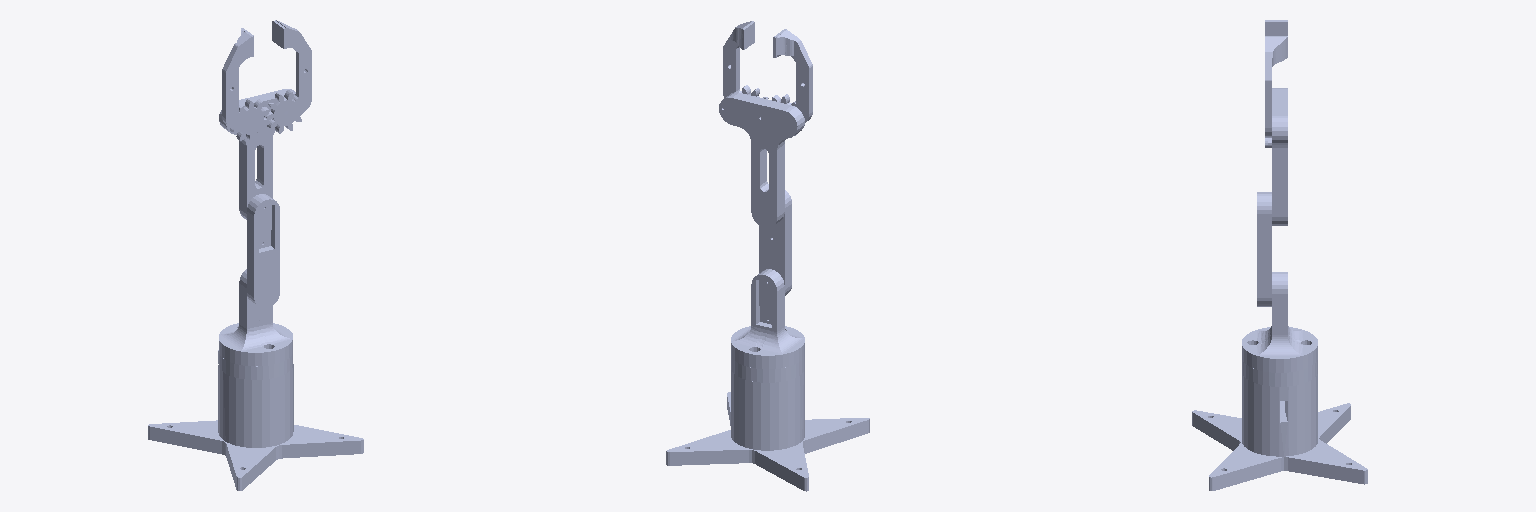
URDF robot description (robot_arm):
<?xml version="1.0" encoding="utf-8"?>
<!-- This URDF was automatically created by SolidWorks to URDF Exporter! Originally created by [author] ([email redacted]) 
     Commit Version: 1.6.0-1-g15f4949  Build Version: 1.6.7594.29634
     For more information, please see http://wiki.ros.org/sw_urdf_exporter -->
<robot
  name="robot_arm">

  <gazebo>
    <plugin name="gazebo_ros_control" filename="libgazebo_ros_control.so">
        <robotNamespace>/robot_arm</robotNamespace>
        <!-- <robotSimType>gazebo_ros_control/DefaultRobotHWSim</robotSimType> -->
    </plugin>
  </gazebo>

  <gazebo>
        <self_collide>1</self_collide>
  </gazebo>


  <link
    name="Link_1">
    <inertial>
      <origin
        xyz="4.5282E-05 4.8688E-06 0.023636"
        rpy="0 0 0" />
      <!-- <mass
        value="0.14588" /> -->
      <mass
        value="5.4588" />
      <inertia
        ixx="9.6389E-05"
        ixy="9.0084E-08"
        ixz="-8.254E-07"
        iyy="9.5561E-05"
        iyz="-8.8747E-08"
        izz="9.9975E-05" />
    </inertial>
    <visual>
      <origin
        xyz="0 0 0"
        rpy="0 0 0" />
      <geometry>
        <mesh
          filename="package://robot_arm/meshes/Link_1.STL" scale="1 1 1"/>
      </geometry>
      <material
        name="">
        <color
          rgba="0.79216 0.81961 0.93333 1" />
      </material>
    </visual>
    <collision>
      <origin
        xyz="0 0 0"
        rpy="0 0 0" />
      <geometry>
        <mesh
          filename="package://robot_arm/meshes/Link_1.STL" scale="1 1 1"/>
      </geometry>
    </collision>
  </link>
  <link
    name="Link_2">
    <inertial>
      <origin
        xyz="1.9973E-06 -0.00019544 0.016457"
        rpy="0 0 0" />
      <mass
        value="0.047031" />
      <inertia
        ixx="1.1303E-05"
        ixy="1.4175E-08"
        ixz="2.7298E-10"
        iyy="1.1863E-05"
        iyz="5.8768E-08"
        izz="1.2456E-05" />
    </inertial>
    <visual>
      <origin
        xyz="0 0 0"
        rpy="0 0 0" />
      <geometry>
        <mesh
          filename="package://robot_arm/meshes/Link_2.STL" scale="1 1 1"/>
      </geometry>
      <material
        name="">
        <color
          rgba="0.79216 0.81961 0.93333 1" />
      </material>
    </visual>
    <collision>
      <origin
        xyz="0 0 0"
        rpy="0 0 0" />
      <geometry>
        <mesh
          filename="package://robot_arm/meshes/Link_2.STL" scale="1 1 1"/>
      </geometry>
    </collision>
  </link>
  <joint
    name="Joint_1"
    type="revolute">
    <origin
      xyz="0 0 0.06"
      rpy="0 0 0" />
    <parent
      link="Link_1" />
    <child
      link="Link_2" />
    <axis
      xyz="0 0 -1" />
    <dynamics damping="0.0" friction="0.1"/>
    <limit
      lower="-1.6"
      upper="1.6"
      effort="200"
      velocity="0.1" />
  </joint>
  <link
    name="Link_3">
    <inertial>
      <origin
        xyz="-7.26752070051573E-07 -0.0093828236828277 0.035091806750311"
        rpy="0 0 0" />
      <mass
        value="0.0129599236993002" />
      <inertia
        ixx="5.30958057343358E-06"
        ixy="1.74787720994169E-11"
        ixz="3.32836221131858E-10"
        iyy="5.64415590766548E-06"
        iyz="-6.5627531906886E-08"
        izz="5.77508982647376E-07" />
    </inertial>
    <visual>
      <origin
        xyz="0 0 0"
        rpy="0 0 0" />
      <geometry>
        <mesh
          filename="package://robot_arm/meshes/Link_3.STL" scale="1 1 1"/>
      </geometry>
      <material
        name="">
        <color
          rgba="0.792156862745098 0.819607843137255 0.933333333333333 1" />
      </material>
    </visual>
    <collision>
      <origin
        xyz="0 0 0"
        rpy="0 0 0" />
      <geometry>
        <mesh
          filename="package://robot_arm/meshes/Link_3.STL" scale="1 1 1"/>
      </geometry>
    </collision>
  </link>
  <joint
    name="Joint_2"
    type="revolute">
    <origin
      xyz="0 0 0.052"
      rpy="0 0 0" />
    <parent
      link="Link_2" />
    <child
      link="Link_3" />
    <axis
      xyz="0 1 0" />
    <dynamics damping="0.0" friction="0.1"/>
    <limit
      lower="-1.6"
      upper="1.6"
      effort="200"
      velocity="0.1" />
  </joint>
  <link
    name="Link_4">
    <inertial>
      <origin
        xyz="0.0022806 6.1295E-06 0.054205"
        rpy="0 0 0" />
      <mass
        value="0.022474" />
      <inertia
        ixx="1.3536E-05"
        ixy="-7.4689E-11"
        ixz="1.1336E-07"
        iyy="1.6105E-05"
        iyz="3.6796E-08"
        izz="2.9505E-06" />
    </inertial>
    <visual>
      <origin
        xyz="0 0 0"
        rpy="0 0 0" />
      <geometry>
        <mesh
          filename="package://robot_arm/meshes/Link_4.STL" scale="1 1 1"/>
      </geometry>
      <material
        name="">
        <color
          rgba="0.79216 0.81961 0.93333 1" />
      </material>
    </visual>
    <collision>
      <origin
        xyz="0 0 0"
        rpy="0 0 0" />
      <geometry>
        <mesh
          filename="package://robot_arm/meshes/Link_4.STL" scale="1 1 1"/>
      </geometry>
    </collision>
  </link>
  <joint
    name="Joint_3"
    type="revolute">
    <origin
      xyz="0 0 0.0575"
      rpy="0 0 0" />
    <parent
      link="Link_3" />
    <child
      link="Link_4" />
    <axis
      xyz="0 1 0" />
    <dynamics damping="0.0" friction="0.1"/>
    <limit
      lower="-1.6"
      upper="1.6"
      effort="200"
      velocity="0.1" />
  </joint>
  <link
    name="Gripper_1">
    <inertial>
      <origin
        xyz="0.00586952450495107 -0.00677717603214567 0.0220694637901648"
        rpy="0 0 0" />
      <mass
        value="0.00733041741689851" />
      <inertia
        ixx="2.94598911061967E-06"
        ixy="3.57638828167118E-08"
        ixz="7.46332577953686E-08"
        iyy="3.26364947357201E-06"
        iyz="-1.6966482237963E-07"
        izz="4.22647329437319E-07" />
    </inertial>
    <visual>
      <origin
        xyz="0 0 0"
        rpy="0 0 0" />
      <geometry>
        <mesh
          filename="package://robot_arm/meshes/Gripper_1.STL" scale="1 1 1"/>
      </geometry>
      <material
        name="">
        <color
          rgba="0.792156862745098 0.819607843137255 0.929411764705882 1" />
      </material>
    </visual>
    <collision>
      <origin
        xyz="0 0 0"
        rpy="0 0 0" />
      <geometry>
        <mesh
          filename="package://robot_arm/meshes/Gripper_1.STL" scale="1 1 1"/>
      </geometry>
    </collision>
  </link>
  <joint
    name="Joint_4"
    type="revolute">
    <origin
      xyz="0.0175 0 0.075"
      rpy="0 0 0" />
    <parent
      link="Link_4" />
    <child
      link="Gripper_1" />
    <axis
      xyz="0 1 0" />
    <dynamics damping="0.0" friction="0.1"/>
    <limit
      lower="-0.4"
      upper="0.4"
      effort="2.0"
      velocity="0.5" />
  </joint>
  <link
    name="Gripper_2">
    <inertial>
      <origin
        xyz="-0.00534703198630246 -0.00690732989471416 0.0188678202931807"
        rpy="0 0 0" />
      <mass
        value="0.00782008836001168" />
      <inertia
        ixx="3.02747330802087E-06"
        ixy="-3.1884020145062E-08"
        ixz="3.93346556365972E-10"
        iyy="3.3875046197577E-06"
        iyz="-1.30979650389178E-07"
        izz="4.50478832229237E-07" />
    </inertial>
    <visual>
      <origin
        xyz="0 0 0"
        rpy="0 0 0" />
      <geometry>
        <mesh
          filename="package://robot_arm/meshes/Gripper_2.STL" scale="1 1 1"/>
      </geometry>
      <material
        name="">
        <color
          rgba="0.792156862745098 0.819607843137255 0.933333333333333 1" />
      </material>
    </visual>
    <collision>
      <origin
        xyz="0 0 0"
        rpy="0 0 0" />
      <geometry>
        <mesh
          filename="package://robot_arm/meshes/Gripper_2.STL" scale="1 1 1"/>
      </geometry>
    </collision>
  </link>
  <joint
    name="Joint_5"
    type="revolute">
    <origin
      xyz="-0.009 0 0.075"
      rpy="0 0 0" />
    <parent
      link="Link_4" />
    <child
      link="Gripper_2" />
    <axis
      xyz="0 1 0" />
    <dynamics damping="0.0" friction="0.1"/>
    <limit
      lower="-0.4"
      upper="0.4"
      effort="2.0"
      velocity="0.5" />
  </joint>

  
  <gazebo reference="Link_1">
    <mu1>0.2</mu1>
    <mu2>0.2</mu2>
    <minDepth>0.005</minDepth>
    <!-- <material>Gazebo/Orange</material> -->
  </gazebo>

  <gazebo reference="Link_2">
    <mu1>0.2</mu1>
    <mu2>0.2</mu2>
    <!-- <material>Gazebo/Orange</material> -->
  </gazebo>

  <gazebo reference="Link_3">
    <mu1>0.2</mu1>
    <mu2>0.2</mu2>
    <!-- <material>Gazebo/Orange</material> -->
  </gazebo>

  <gazebo reference="Link_4">
    <mu1>0.2</mu1>
    <mu2>0.2</mu2>
    <!-- <material>Gazebo/Orange</material> -->
  </gazebo>
  
  
  <gazebo reference="Gripper_1">
    <mu1>0.2</mu1>
    <mu2>0.2</mu2>
    <material>Gazebo/Orange</material>
  </gazebo>


  <gazebo reference="Gripper_2">
    <mu1>0.2</mu1>
    <mu2>0.2</mu2>
    <material>Gazebo/Orange</material>
  </gazebo>

  <transmission name="joint_1_trans">
      <type>transmission_interface/SimpleTransmission</type>
      <joint name="Joint_1">
        <hardwareInterface>hardware_interface/EffortJointInterface</hardwareInterface>
      </joint>
      <actuator name="joint_1Motor">
        <hardwareInterface>hardware_interface/EffortJointInterface</hardwareInterface>
        <mechanicalReduction>1</mechanicalReduction>
      </actuator>
    </transmission>

    <transmission name="joint_2_trans">
      <type>transmission_interface/SimpleTransmission</type>
      <joint name="Joint_2">
        <hardwareInterface>hardware_interface/EffortJointInterface</hardwareInterface>
      </joint>
      <actuator name="joint_2Motor">
        <hardwareInterface>hardware_interface/EffortJointInterface</hardwareInterface>
        <mechanicalReduction>1</mechanicalReduction>
      </actuator>
    </transmission>

    <transmission name="joint_3_trans">
      <type>transmission_interface/SimpleTransmission</type>
      <joint name="Joint_3">
        <hardwareInterface>hardware_interface/EffortJointInterface</hardwareInterface>
      </joint>
      <actuator name="joint_3Motor">
        <hardwareInterface>hardware_interface/EffortJointInterface</hardwareInterface>
        <mechanicalReduction>1</mechanicalReduction>
      </actuator>
    </transmission>

    <transmission name="joint_4_trans">
      <type>transmission_interface/SimpleTransmission</type>
      <joint name="Joint_4">
        <hardwareInterface>hardware_interface/EffortJointInterface</hardwareInterface>
      </joint>
      <actuator name="joint_4Motor">
        <hardwareInterface>hardware_interface/EffortJointInterface</hardwareInterface>
        <mechanicalReduction>1</mechanicalReduction>
      </actuator>
    </transmission>
    

</robot>

--- Render facts (derived) ---
Views: 3 orthographic renders of the robot side by side, from view 1: azimuth 30°, elevation 25°; view 2: azimuth 150°, elevation 25°; view 3: azimuth 270°, elevation 25°.
Model robot_arm with 6 links and 5 joints (5 revolute), rooted at Link_1, posed all joints at 0.
Visible links, largest first — view 1: Link_1, Link_2, Link_3, Link_4, Gripper_2, Gripper_1; view 2: Link_1, Link_2, Link_4, Link_3, Gripper_2, Gripper_1; view 3: Link_1, Link_2, Link_4, Link_3, Gripper_1.
Boxes of the visible links, left/top/right/bottom form: Link_1: left=148, top=364, right=363, bottom=490; Link_2: left=218, top=269, right=292, bottom=379; Link_3: left=247, top=194, right=279, bottom=308; Link_4: left=219, top=89, right=299, bottom=219; Gripper_2: left=222, top=28, right=270, bottom=141; Gripper_1: left=264, top=20, right=311, bottom=133; Link_1: left=666, top=370, right=869, bottom=491; Link_2: left=731, top=269, right=804, bottom=382; Link_4: left=719, top=92, right=804, bottom=227; Link_3: left=759, top=190, right=791, bottom=295; Gripper_2: left=772, top=29, right=812, bottom=135; Gripper_1: left=723, top=21, right=768, bottom=98; Link_1: left=1192, top=374, right=1367, bottom=490; Link_2: left=1242, top=272, right=1317, bottom=386; Link_4: left=1272, top=88, right=1287, bottom=225; Link_3: left=1257, top=192, right=1271, bottom=306; Gripper_1: left=1265, top=36, right=1287, bottom=147.
Size in the robot's own frame: 0.1141 by 0.1141 by 0.3073 metres.
6 mesh visuals loaded from 6 distinct referenced files (6 binary STL).
